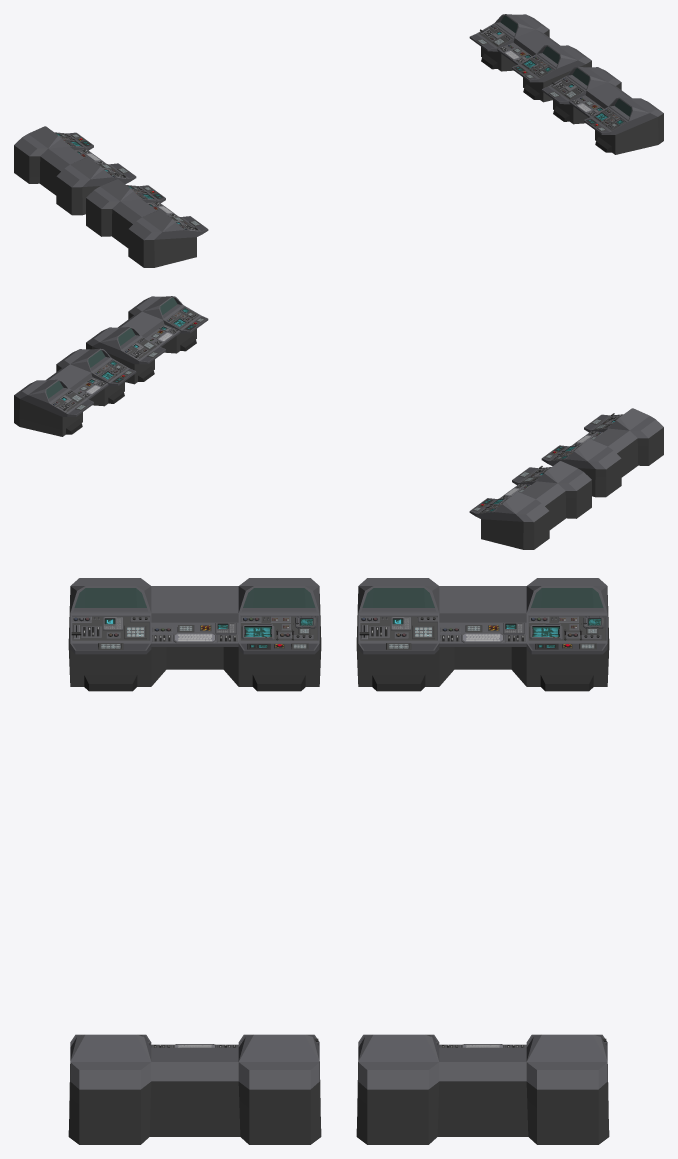
The model's file is SM_Bld_Bridge_Console_01.glb.
3 views of the same model, one above another, from view 1: azimuth 30°, elevation 25°; view 2: azimuth 150°, elevation 25°; view 3: azimuth 270°, elevation 25° (orthographic). The views are drawn at different scales.
Parts seen in each view (by area): view 1: SM_Bld_Bridge_Console_01; view 2: SM_Bld_Bridge_Console_01; view 3: SM_Bld_Bridge_Console_01.
Boxes of the visible parts, x1,y1,x2,y2 form: SM_Bld_Bridge_Console_01: [14, 14, 663, 267]; SM_Bld_Bridge_Console_01: [14, 296, 663, 549]; SM_Bld_Bridge_Console_01: [68, 578, 609, 1144].
Bounding box in the file's own units: 17.42 × 1.29 × 7.84.
1 material, 1 textured.
